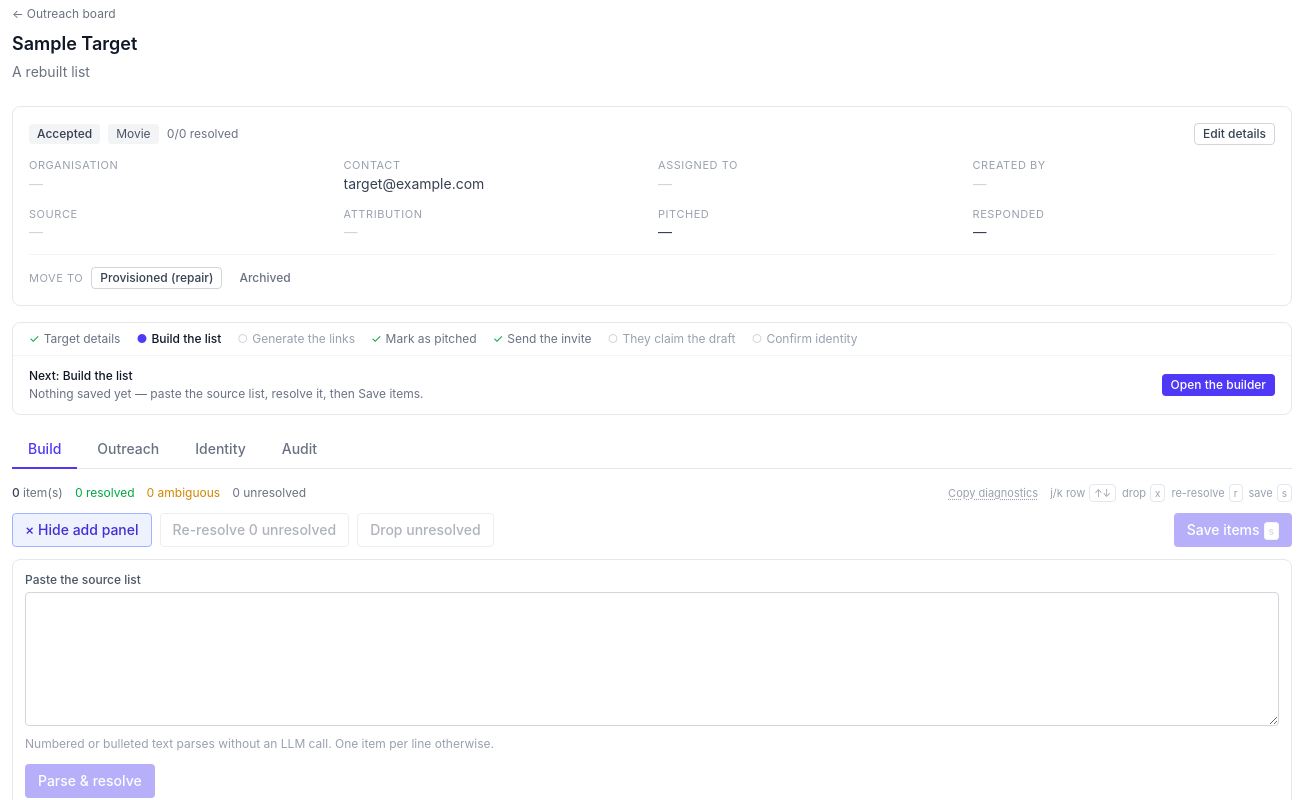
pitch detail — identity confirmation (invariant 3) › does not offer confirmation before the claim
Expected: the text "A rebuilt list" is shown, [12,63,90,80]
What coordinates should you click on to do the following:
click the button "Identity"
I would click on:
 (220, 450)
Its box is [179,431,262,469].
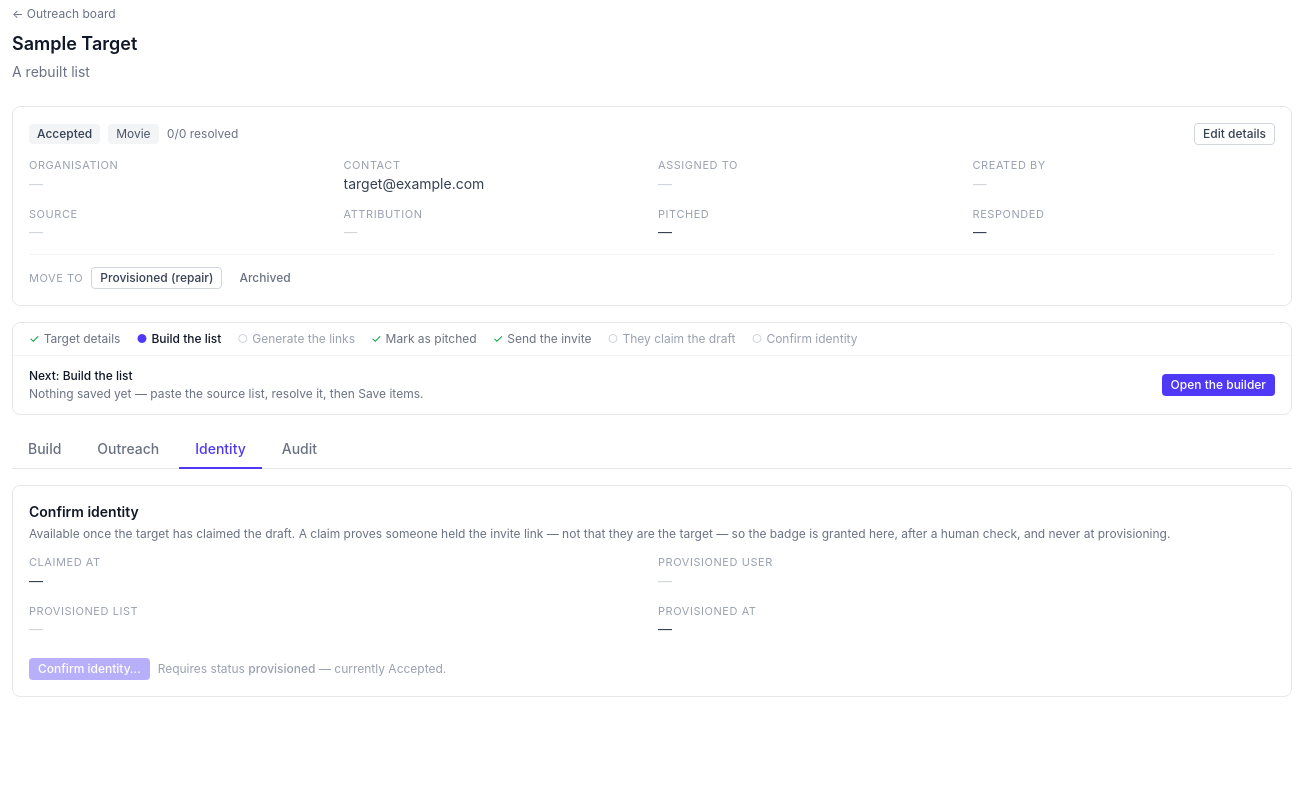
Expected: the button "Confirm identity…" is disabled, [29,658,150,680]
Expected: the text "Requires status provisioned — currently Accepted." is shown, [158,661,446,676]
